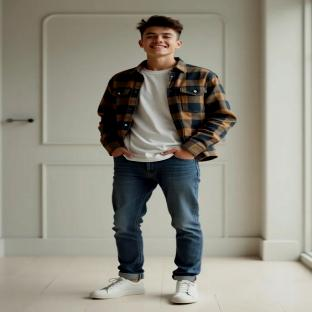Human: (90, 16, 236, 303)
